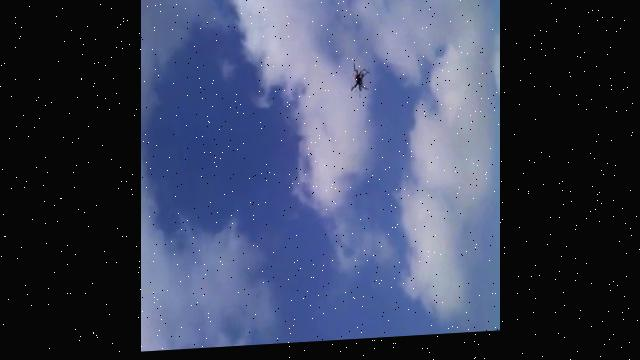drone: (344, 65, 372, 102)
